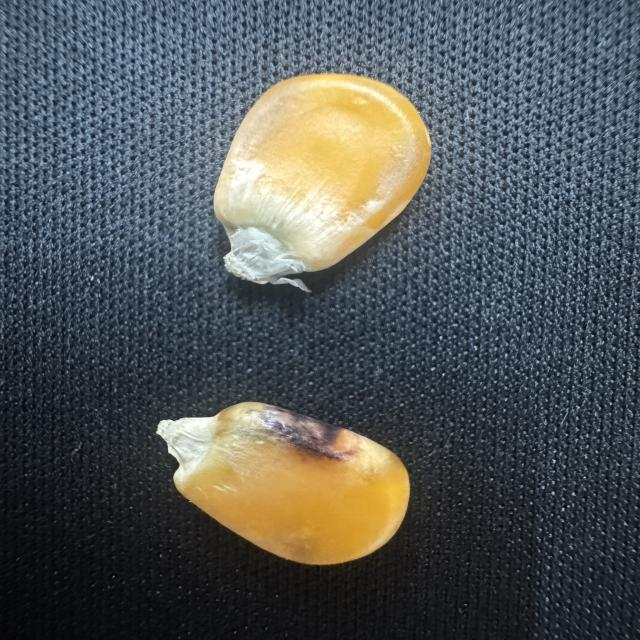Bad-Seed: (138, 389, 423, 587)
Good-Seed: (187, 56, 453, 294)
